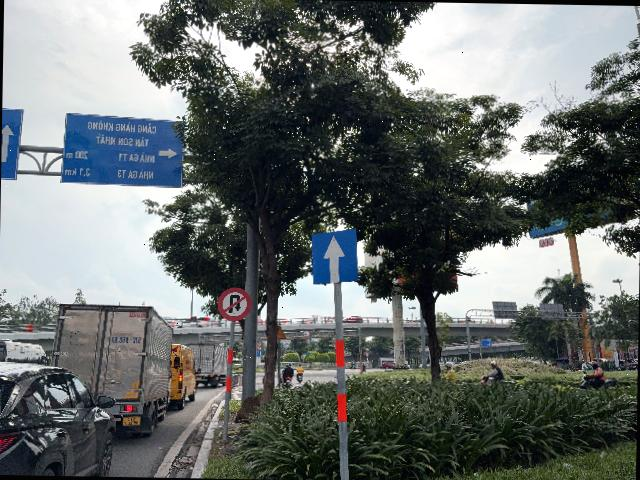cam-quay-dau-xe: (216, 286, 252, 322)
duong-mot-chieu: (310, 227, 360, 285)
